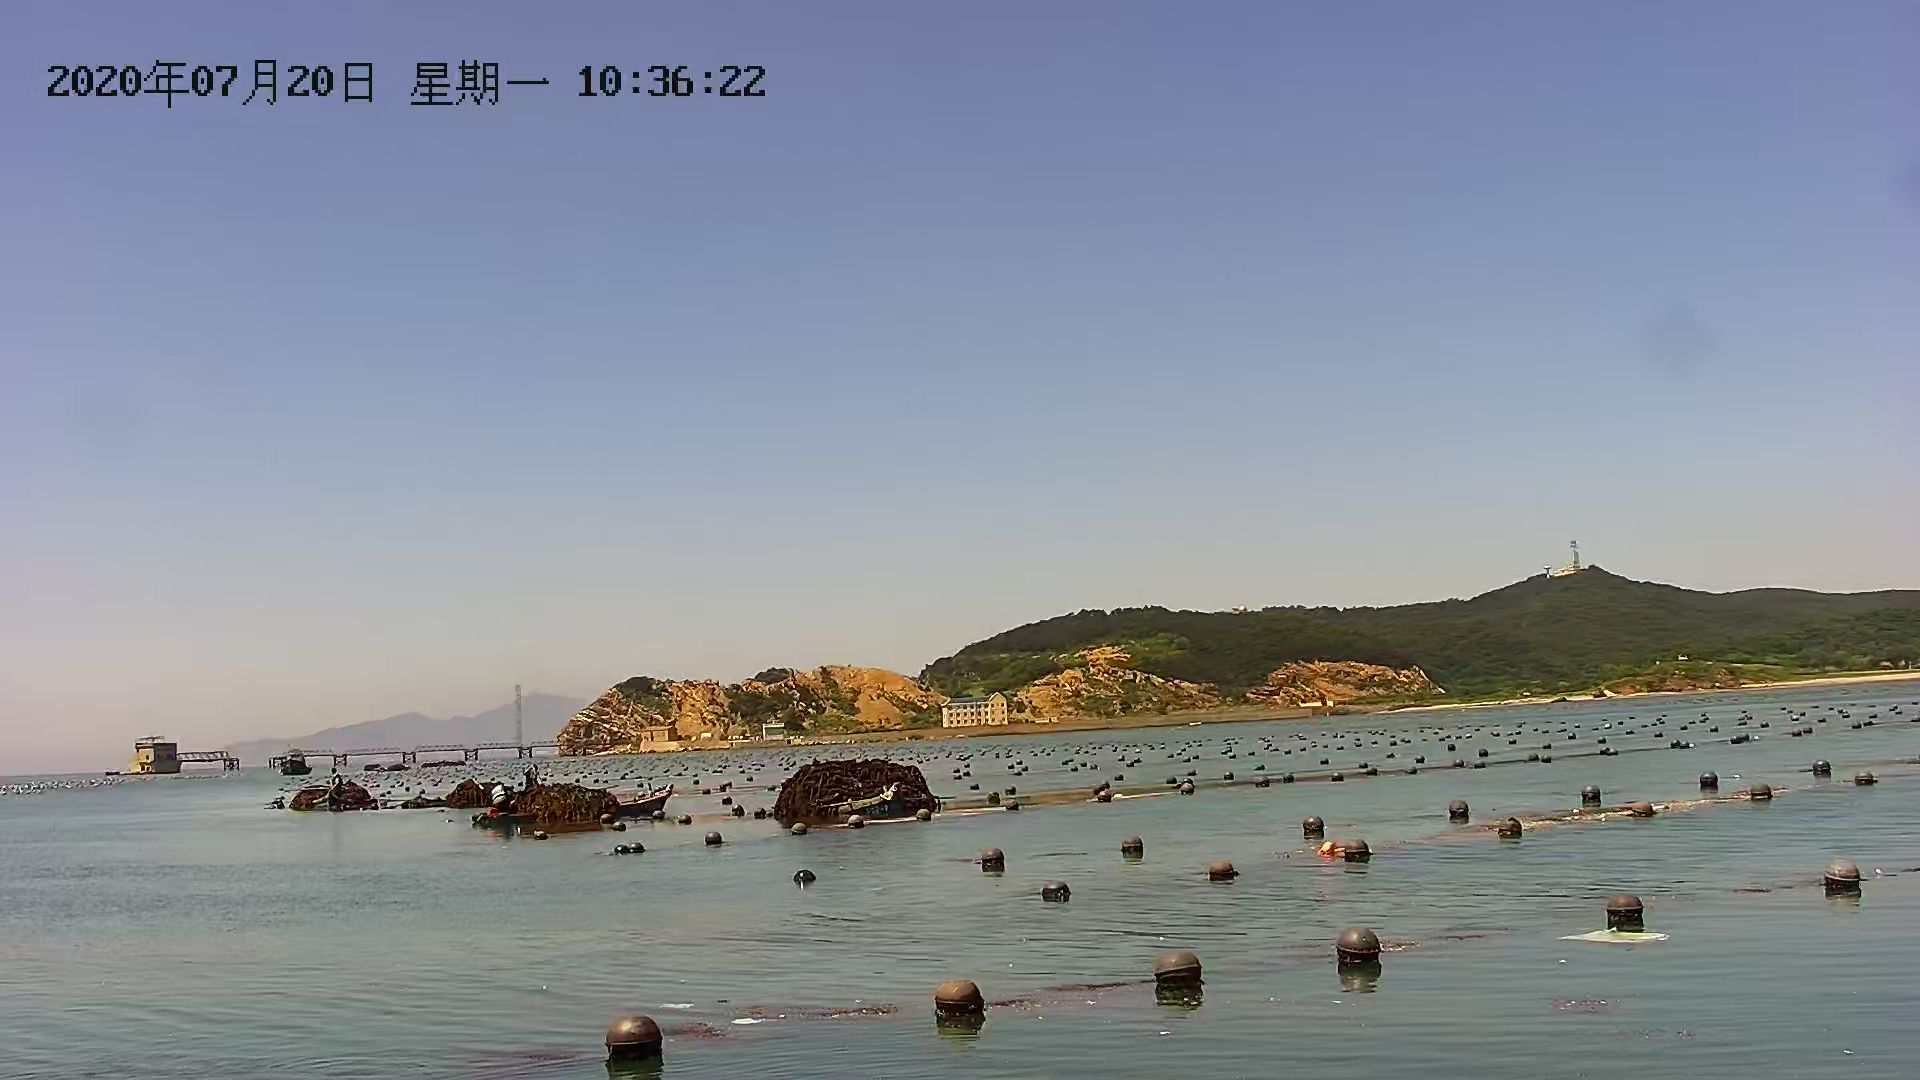ball: (604, 1010, 666, 1064), (930, 975, 992, 1026), (1150, 940, 1207, 996), (1331, 920, 1382, 971), (1601, 891, 1650, 934), (1824, 853, 1865, 902), (1338, 835, 1371, 865), (1495, 812, 1524, 847), (976, 843, 1010, 869), (1116, 831, 1147, 858), (1298, 812, 1328, 840), (1207, 856, 1238, 882), (1040, 880, 1072, 903), (1577, 781, 1605, 807), (1745, 777, 1772, 803), (1696, 764, 1720, 793), (1811, 756, 1836, 781), (1854, 767, 1880, 791), (1448, 796, 1472, 822), (790, 866, 816, 887), (702, 831, 727, 847)
harbor: (120, 729, 582, 775)
rubbish: (767, 760, 942, 825), (469, 775, 628, 825), (266, 774, 377, 815)
